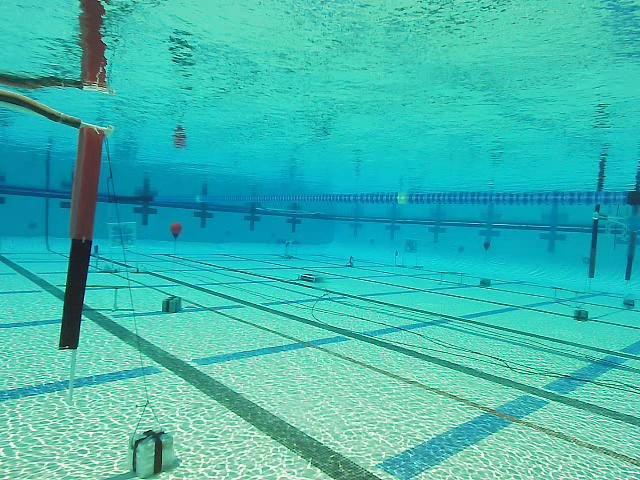buoy: (170, 221, 183, 240)
dropper: (296, 269, 326, 286)
gate_leg_r: (60, 123, 108, 349)
table: (274, 236, 304, 262)
torpedo: (106, 221, 140, 252), (402, 235, 421, 256)
